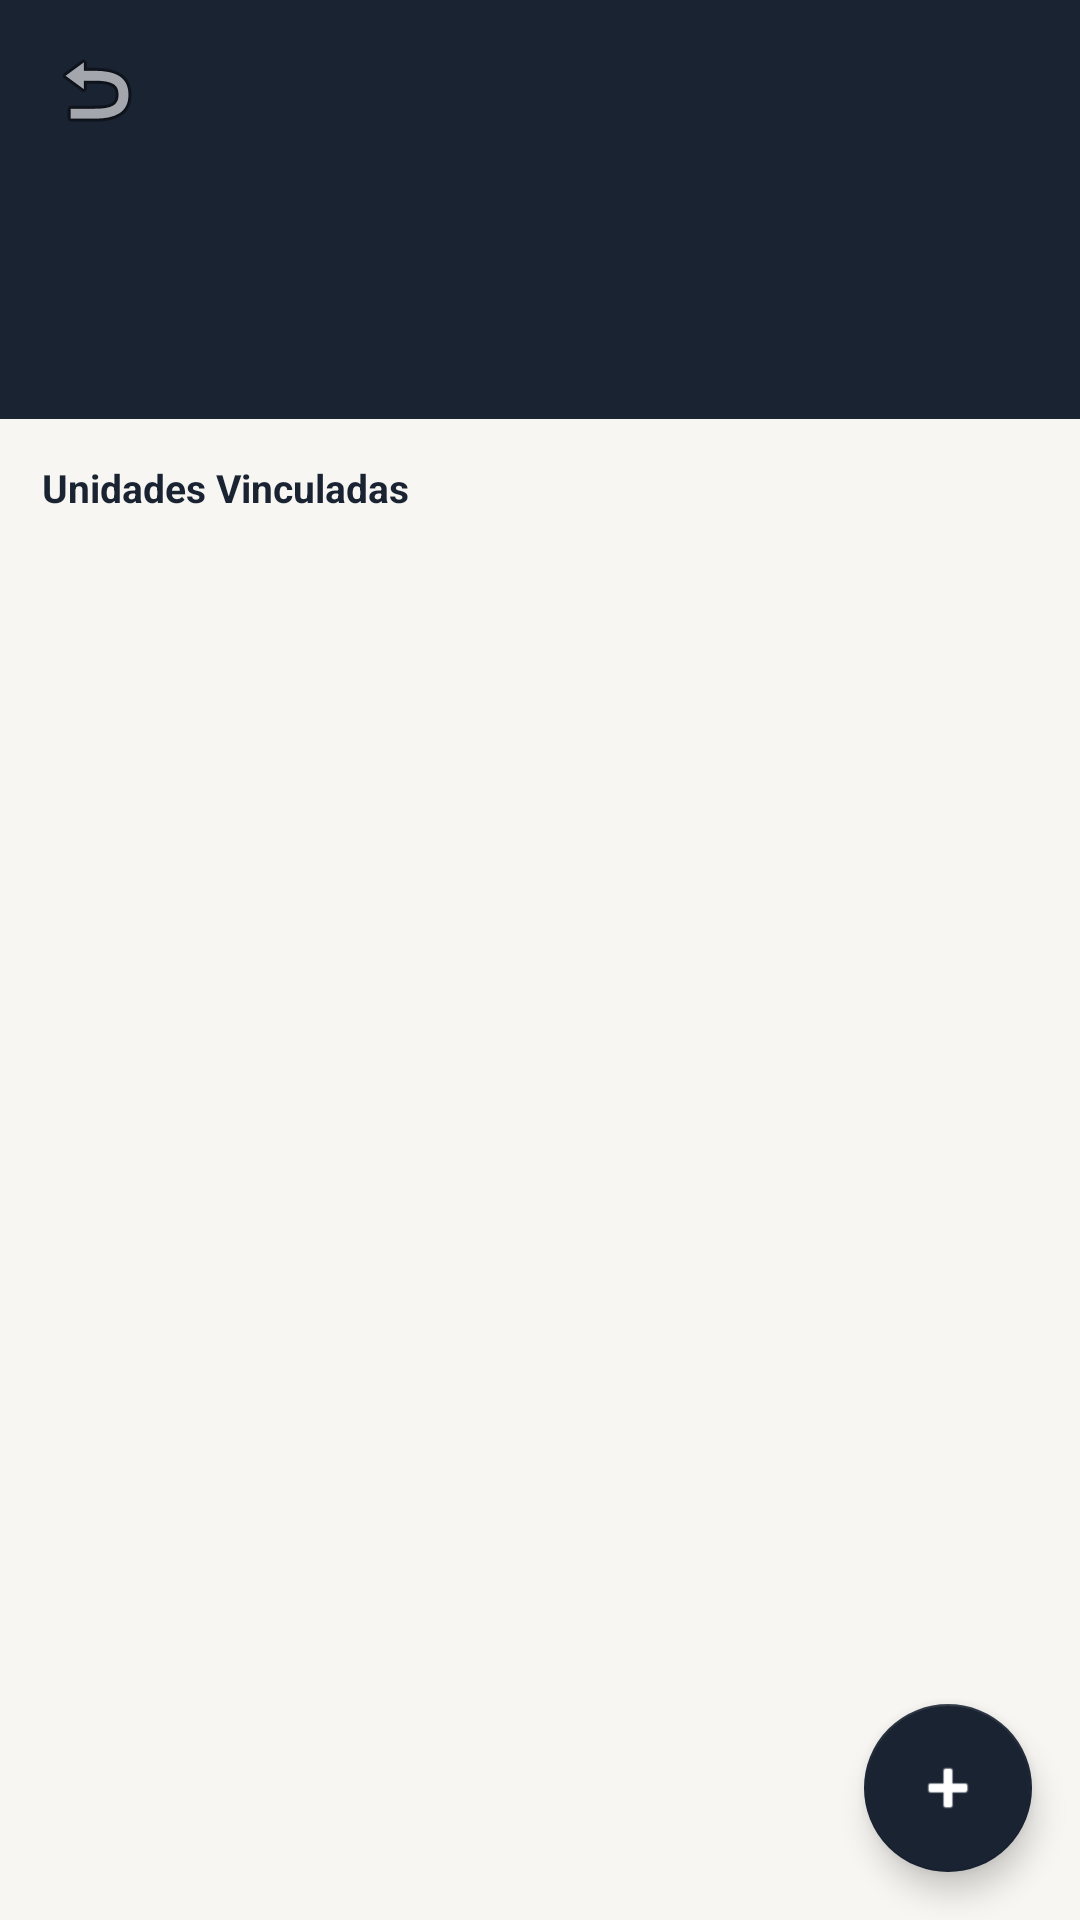

Screen size 1080*1920. Icon name, then its center in pixels as [x,y]:
Novo apartamento: [948,1788]
Voltar: [97,91]
